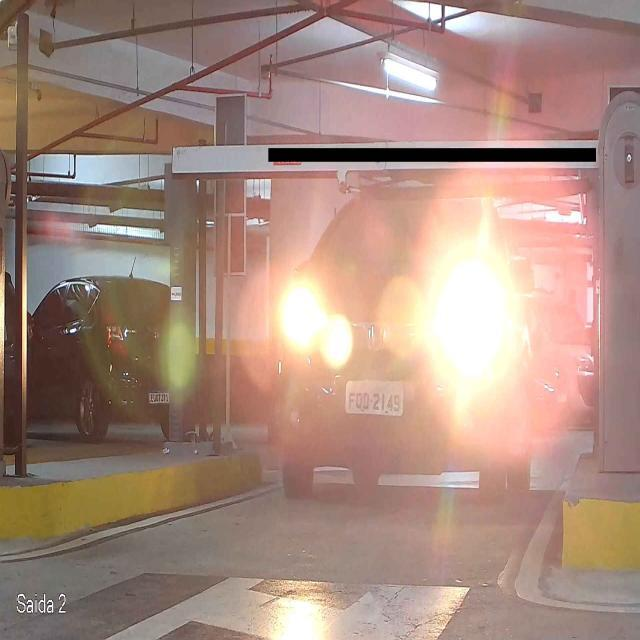old_plate: (343, 380, 406, 417)
